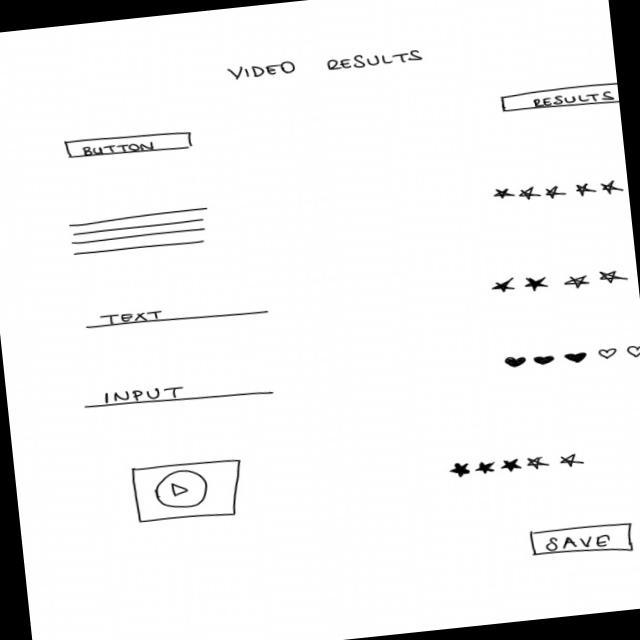button: (528, 519, 639, 564), (64, 127, 195, 164), (497, 83, 620, 118)
input: (81, 374, 278, 418), (82, 294, 273, 336)
label: (225, 44, 425, 85)
text: (65, 204, 215, 262)
